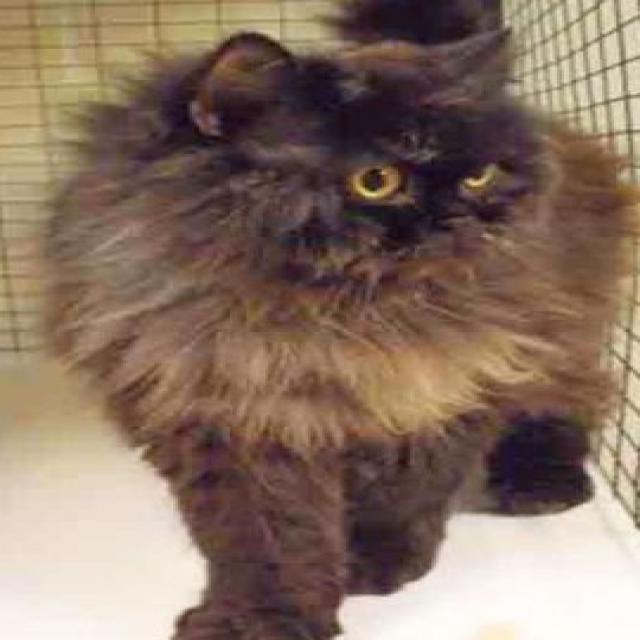Persian: (35, 0, 640, 640)
